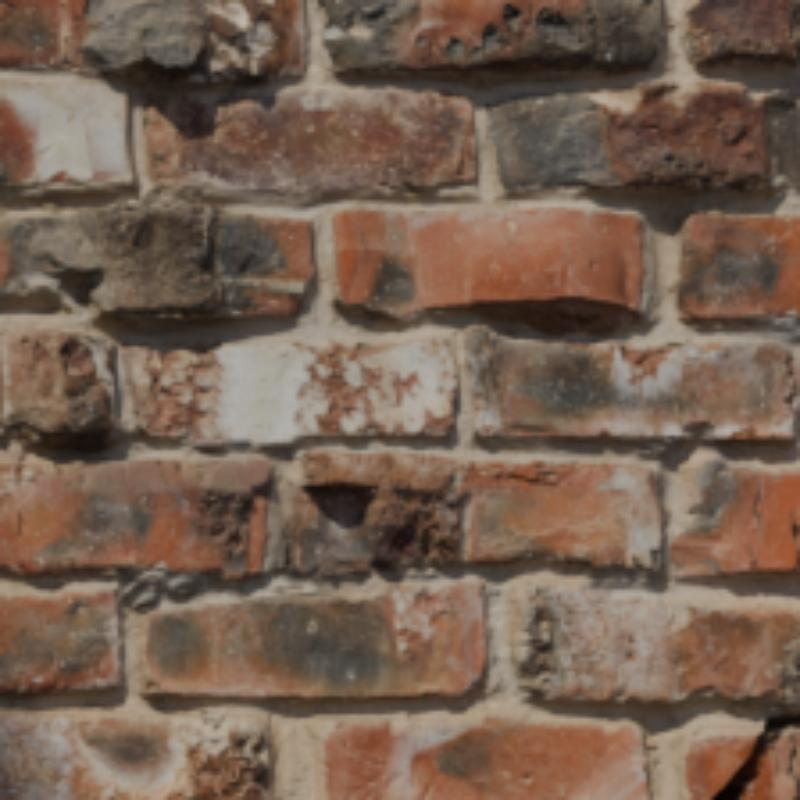pothole: (711, 711, 796, 796)
